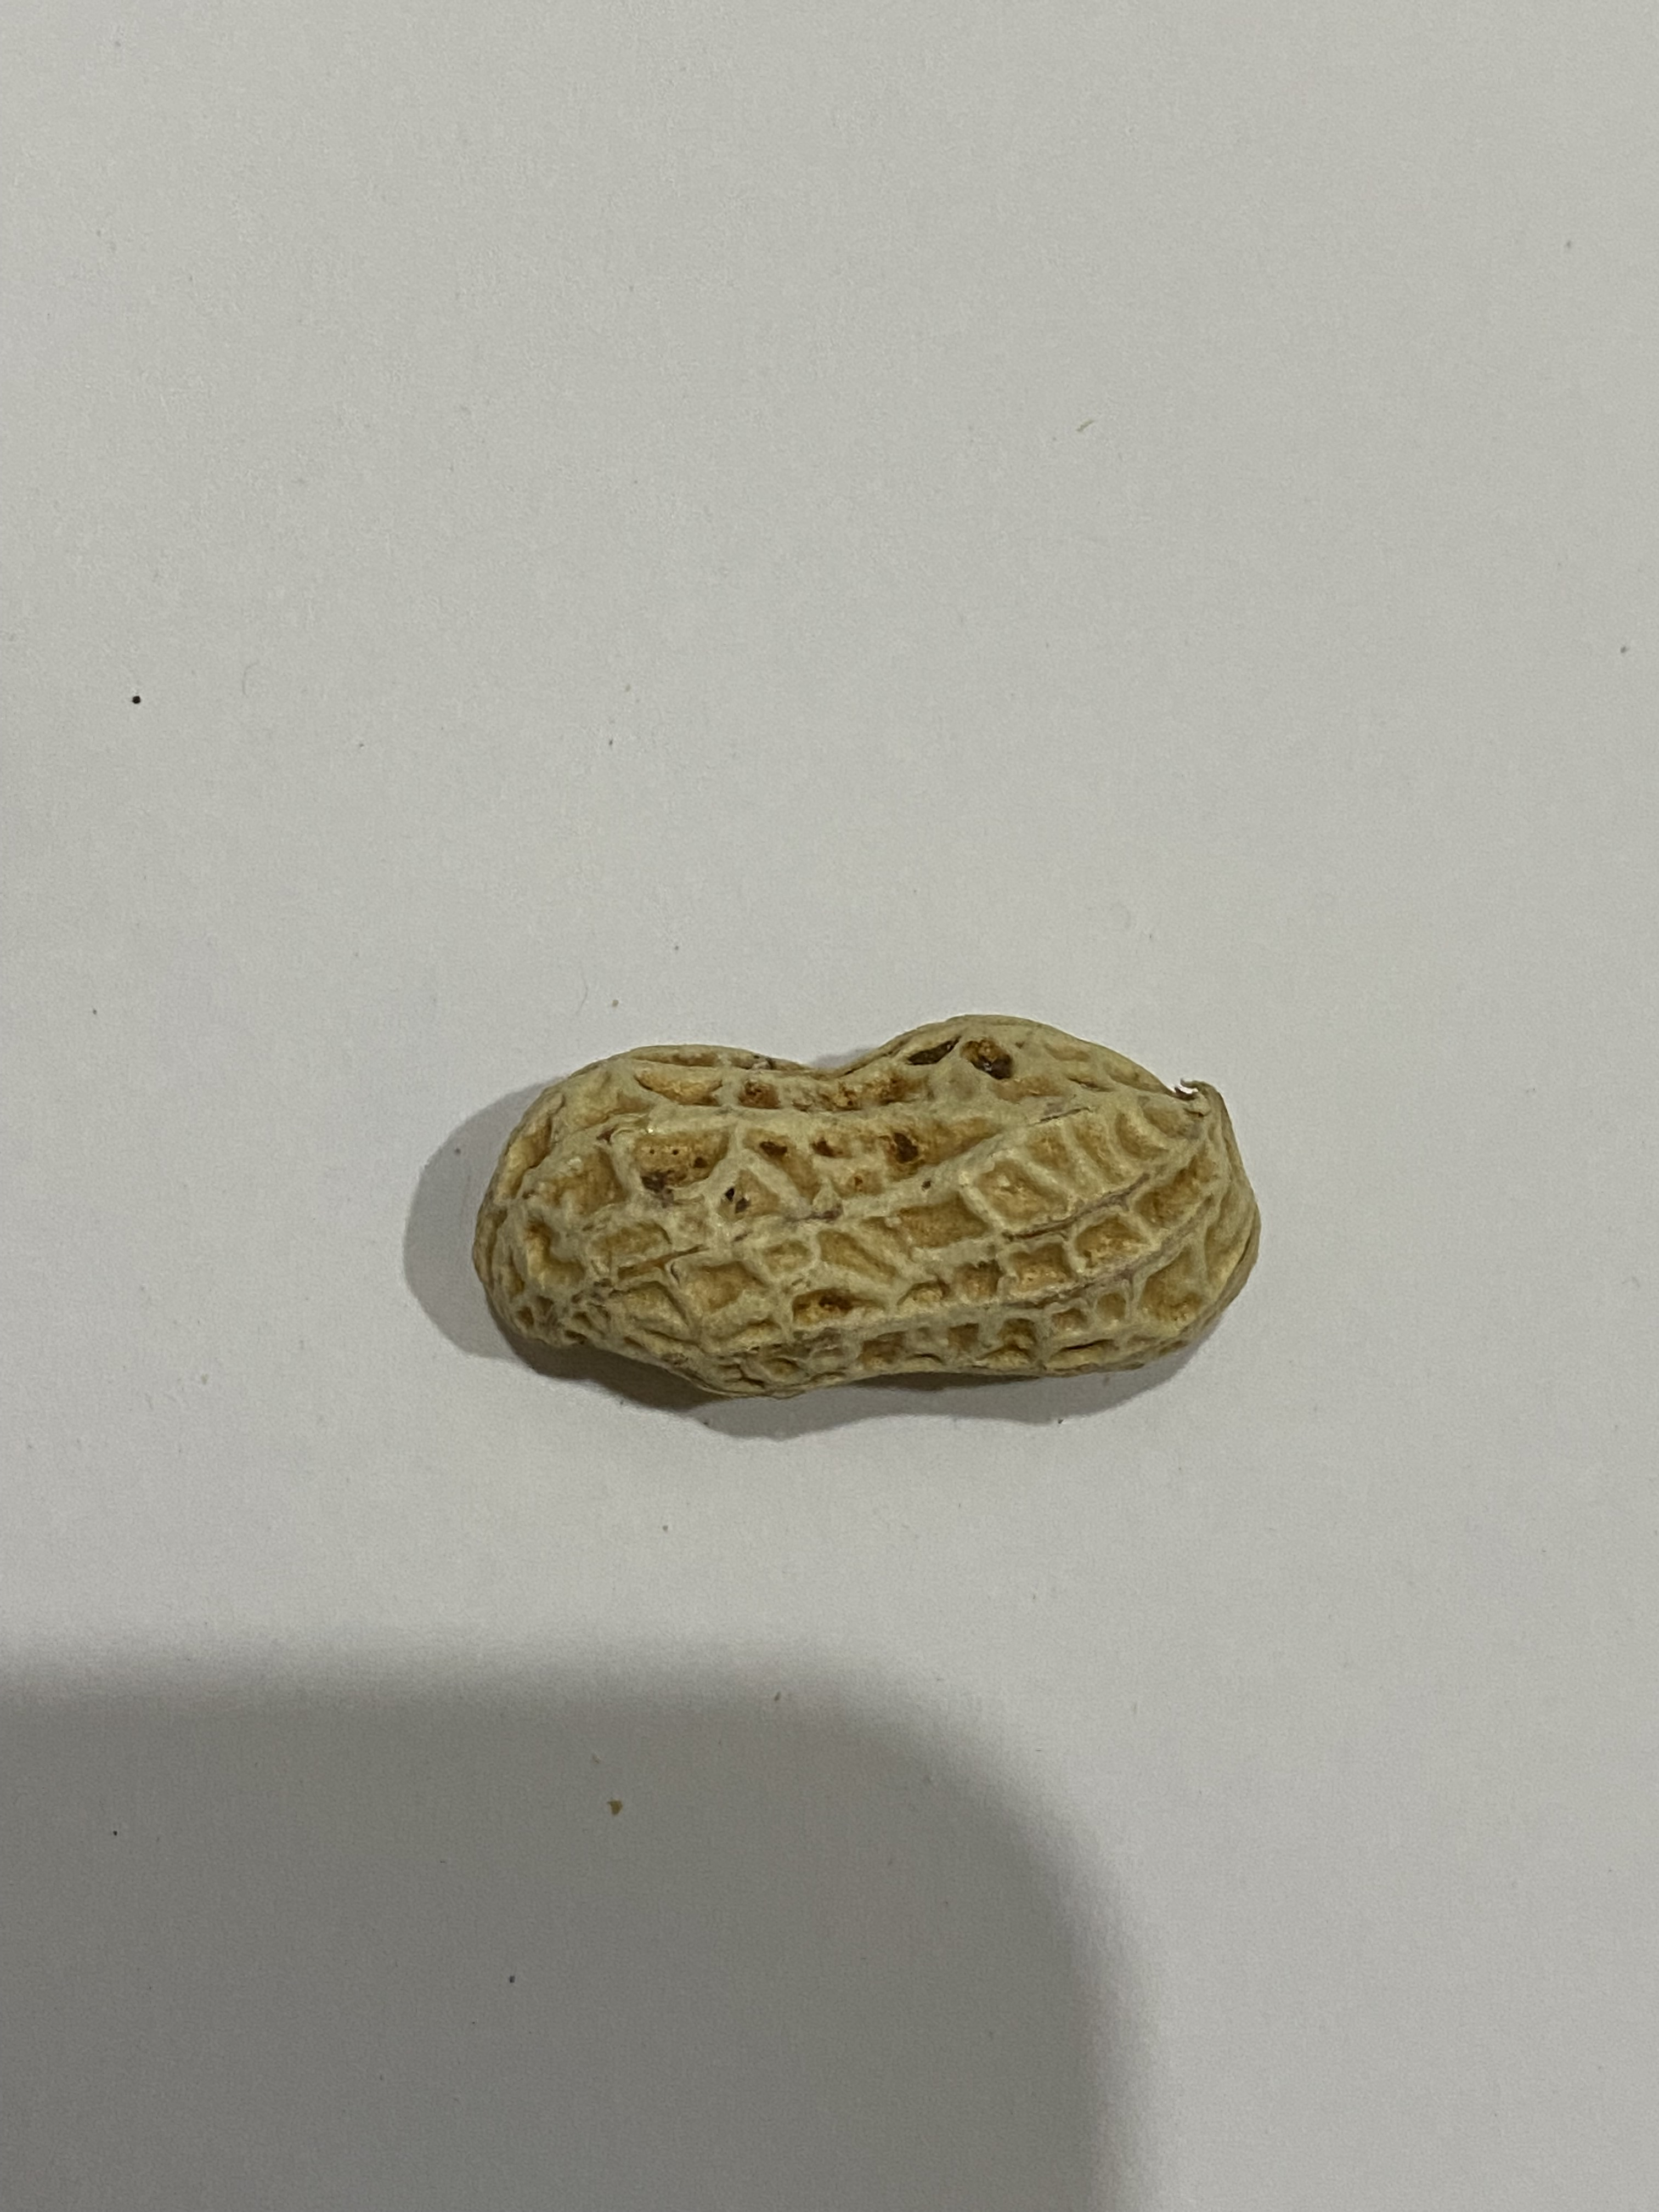kacang2: (378, 1000, 1321, 1411)
